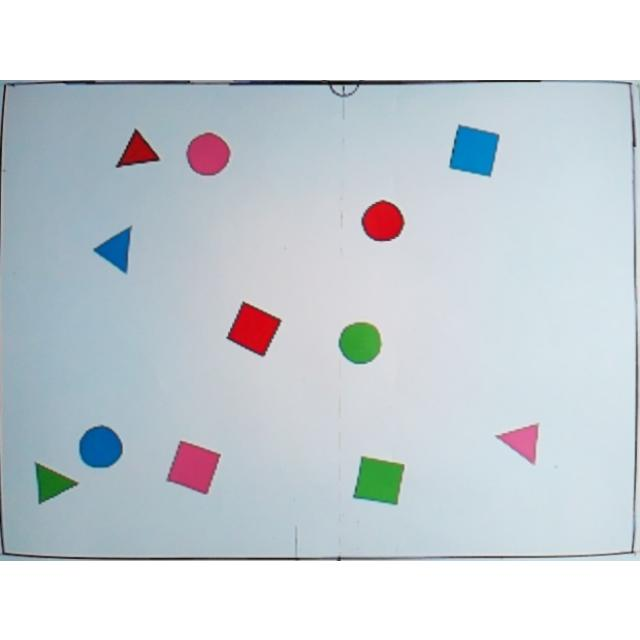blueCircle: (77, 424, 125, 471)
blueSquare: (446, 120, 502, 178)
blueTriangle: (92, 223, 140, 274)
greenCircle: (336, 318, 384, 364)
greenSquare: (350, 454, 406, 506)
greenTriangle: (33, 456, 81, 506)
pinkCircle: (185, 130, 232, 177)
pinkSquare: (165, 438, 221, 494)
pinkTriangle: (494, 418, 542, 466)
redCircle: (359, 198, 407, 242)
redSquare: (224, 299, 284, 356)
redTriangle: (114, 125, 162, 171)
